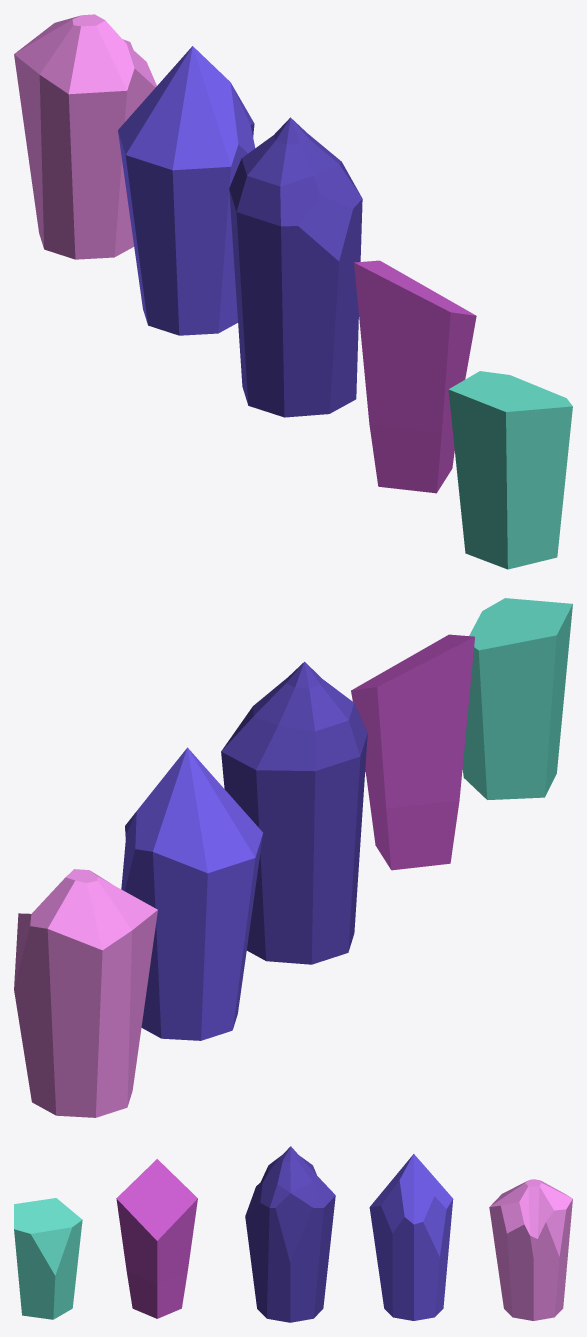
Rendered from Ctystal.fbx.
3 views of the same model, one above another, from view 1: azimuth 30°, elevation 25°; view 2: azimuth 150°, elevation 25°; view 3: azimuth 270°, elevation 25° (orthographic). The views are drawn at different scales.
Visible parts, largest first — view 1: Circle, Circle.002, Circle.003, Circle.004, Circle.005; view 2: Circle, Circle.002, Circle.003, Circle.004, Circle.005; view 3: Circle, Circle.002, Circle.003, Circle.004, Circle.005.
Boxes of the visible parts, x1,y1,x2,y2 form: Circle: [229, 117, 362, 417]; Circle.002: [118, 46, 255, 335]; Circle.003: [14, 14, 156, 259]; Circle.004: [354, 260, 476, 493]; Circle.005: [448, 371, 572, 569]; Circle: [221, 661, 367, 964]; Circle.002: [121, 747, 262, 1040]; Circle.003: [14, 869, 157, 1117]; Circle.004: [351, 634, 474, 870]; Circle.005: [462, 598, 572, 799]; Circle: [245, 1146, 335, 1322]; Circle.002: [369, 1154, 453, 1320]; Circle.003: [489, 1179, 572, 1320]; Circle.004: [116, 1159, 197, 1318]; Circle.005: [14, 1198, 82, 1319].
Size of what is drawn, in the model's own units: 250 by 514 by 1629.
